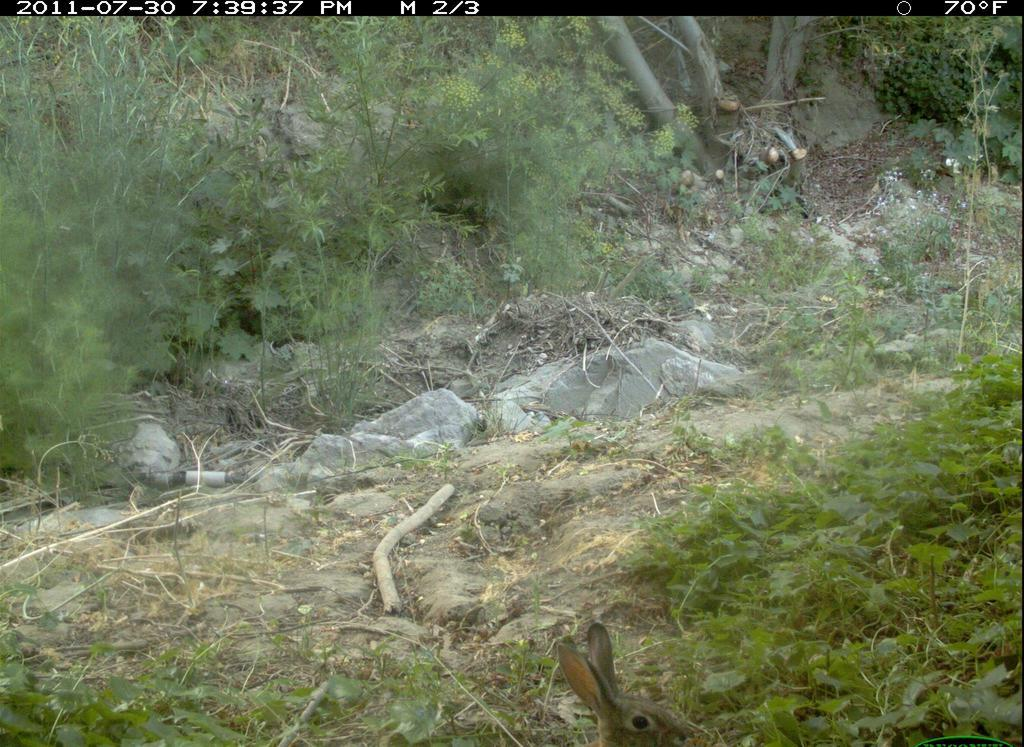rabbit: (552, 616, 692, 747)
